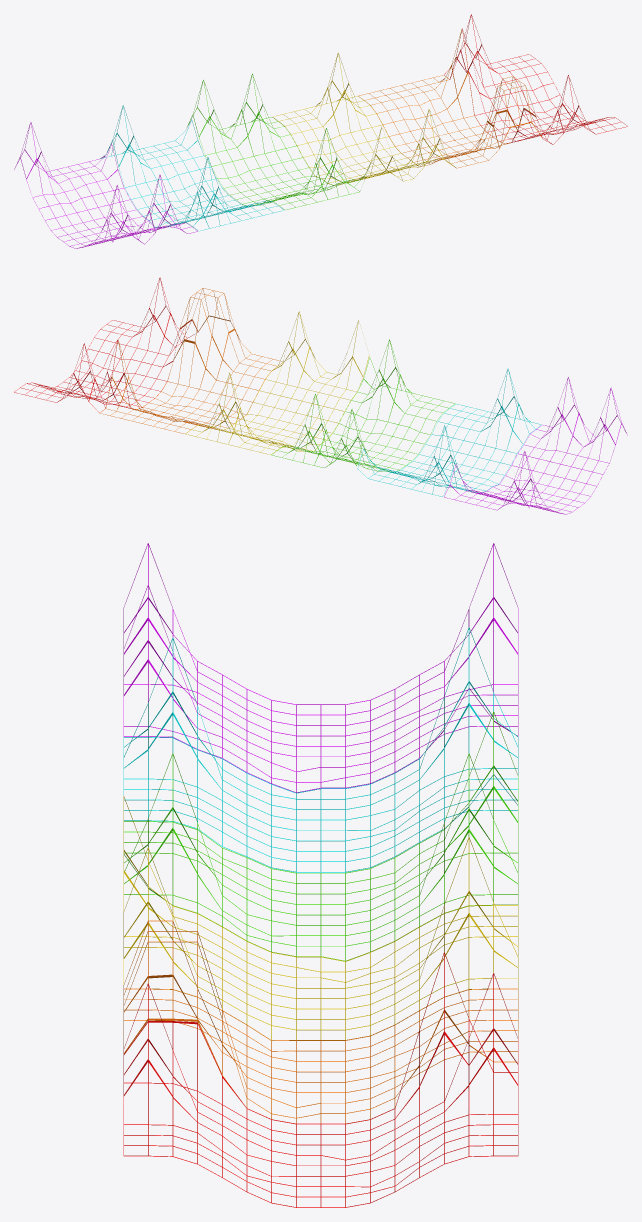
Rendered from rainbowTwo.gltf.
The picture shows the model from 3 angles, top to bottom: view 1: azimuth 30°, elevation 25°; view 2: azimuth 150°, elevation 25°; view 3: azimuth 270°, elevation 25°; orthographic projection. The views are drawn at different scales.
Visible parts, largest first — view 1: Plane.005; view 2: Plane.005; view 3: Plane.005.
Part boxes in pixels (left/top/right/bottom): Plane.005: left=14, top=14, right=627, bottom=248; Plane.005: left=14, top=277, right=627, bottom=514; Plane.005: left=123, top=543, right=518, bottom=1207.
Size of the model in its own units: 12.05 by 1.98 by 4.
